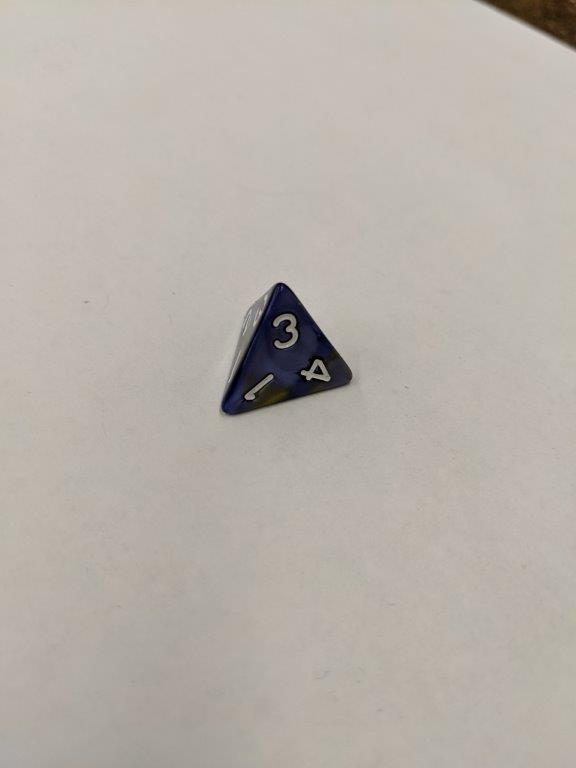d4-3: (215, 278, 357, 415)
